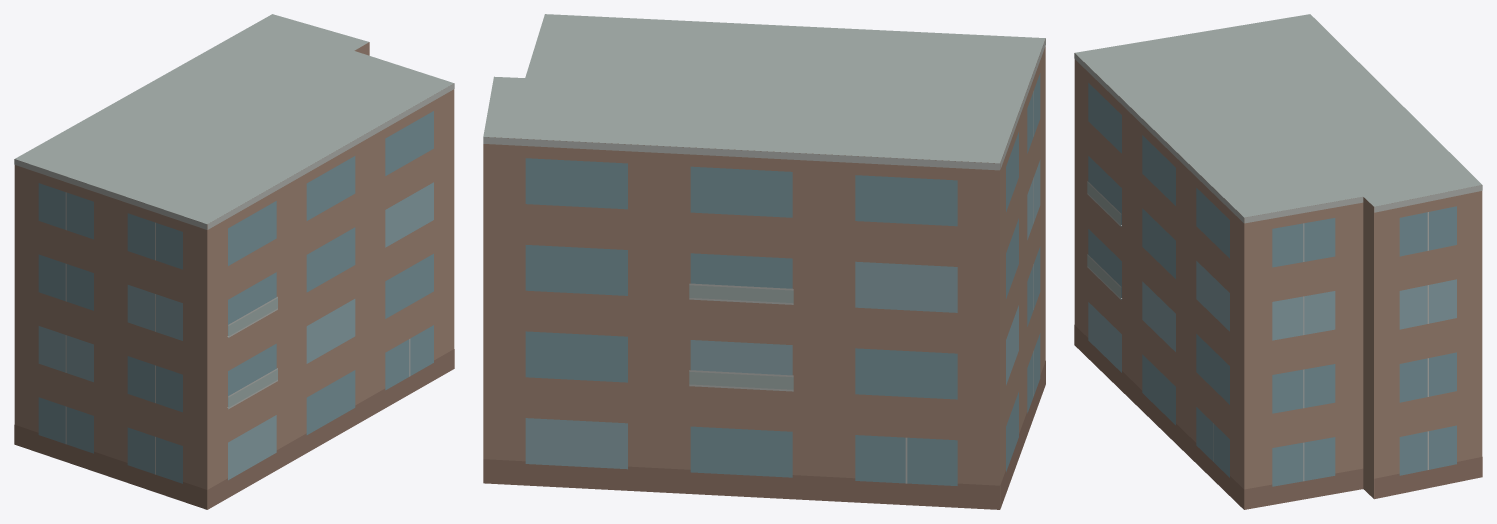
The model's file is survey-upis-32666350.glb.
The picture shows the model from 3 angles, left to right: view 1: azimuth 30°, elevation 25°; view 2: azimuth 150°, elevation 25°; view 3: azimuth 270°, elevation 25°; orthographic projection. The views are drawn at different scales.
Visible parts, largest first — view 1: survey-upis-32666350.tmp; view 2: survey-upis-32666350.tmp; view 3: survey-upis-32666350.tmp.
Part boxes in pixels (box(x1,y1,x2,y2)): survey-upis-32666350.tmp: box(14, 14, 454, 509); survey-upis-32666350.tmp: box(483, 14, 1045, 509); survey-upis-32666350.tmp: box(1074, 14, 1482, 509).
Bounding box in the file's own units: 17.93 × 12 × 15.19.
